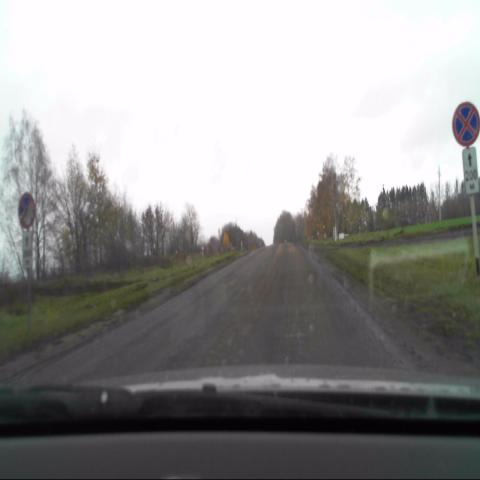8_2_2: (462, 146, 479, 196), (22, 230, 32, 269)
